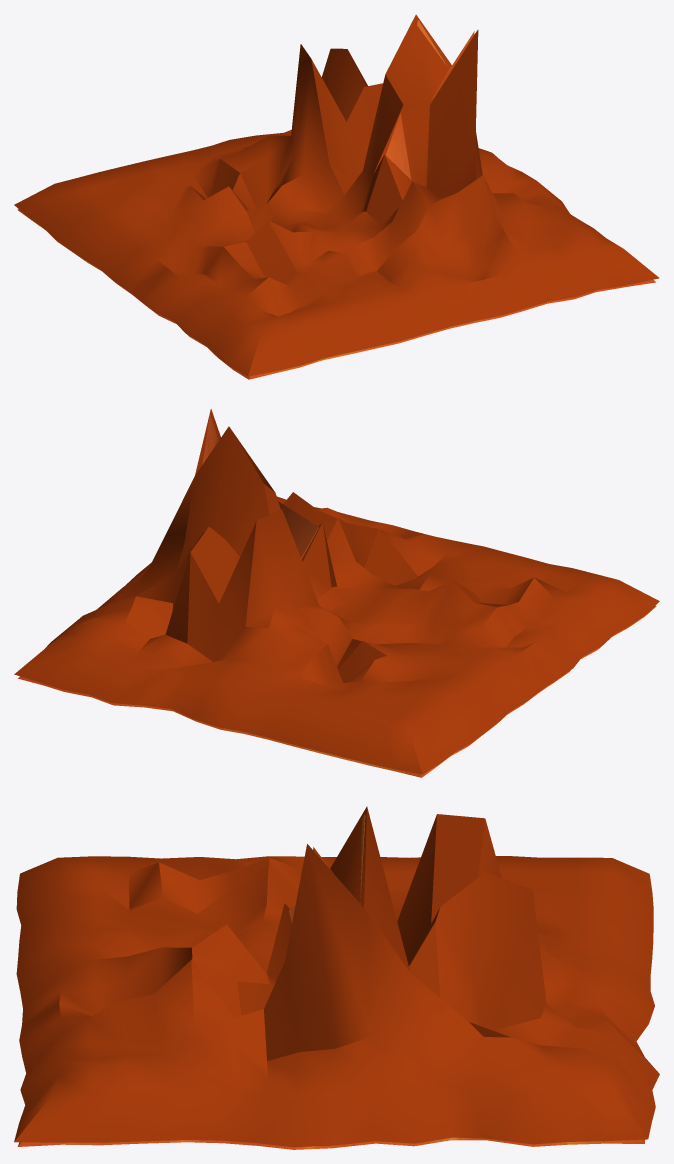
File: billbg_6.fbx
3 renders of one model, top to bottom at view 1: azimuth 30°, elevation 25°; view 2: azimuth 150°, elevation 25°; view 3: azimuth 270°, elevation 25°, orthographic. The views are drawn at different scales.
Parts seen in each view (by area): view 1: Obstacle_003_Obj; view 2: Obstacle_003_Obj; view 3: Obstacle_003_Obj.
Part boxes in pixels (x1,y1,x2,y2): Obstacle_003_Obj: (14, 14, 659, 379); Obstacle_003_Obj: (14, 409, 659, 777); Obstacle_003_Obj: (14, 806, 659, 1149).
Bounding box in the file's own units: 59.24 × 28.15 × 58.81.
